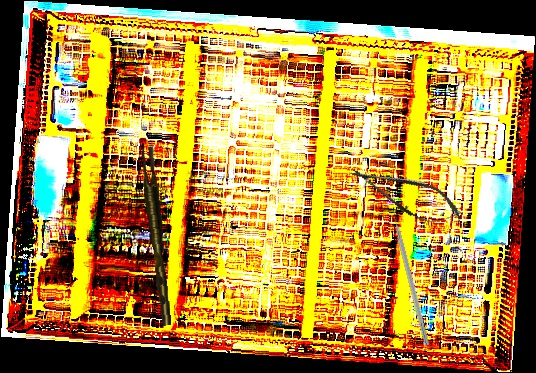Chopper: (389, 203, 437, 346)
Micro Scissor: (342, 153, 469, 236)
Tissue Forceps: (140, 146, 172, 327)
